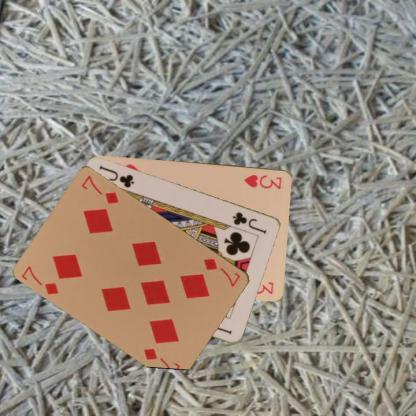3h: (242, 172, 283, 190)
7d: (19, 263, 61, 296), (201, 256, 242, 288)
Jc: (230, 209, 269, 235)
